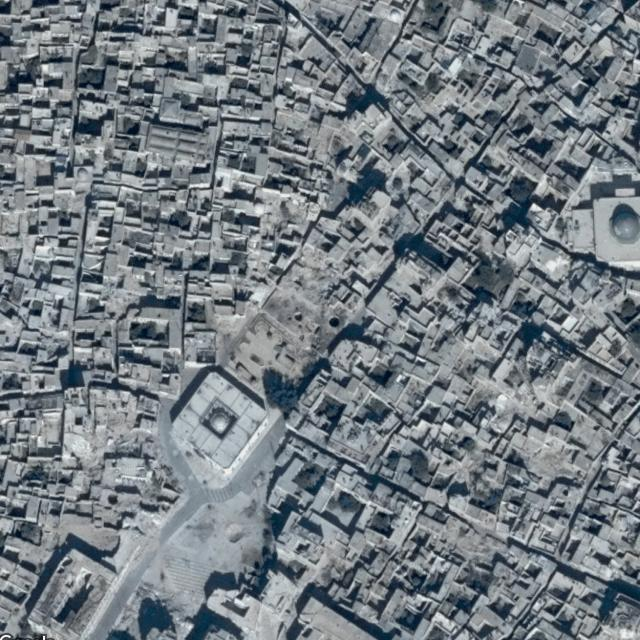damaged_building: (71, 414, 138, 477), (278, 247, 344, 309), (528, 443, 573, 483)
